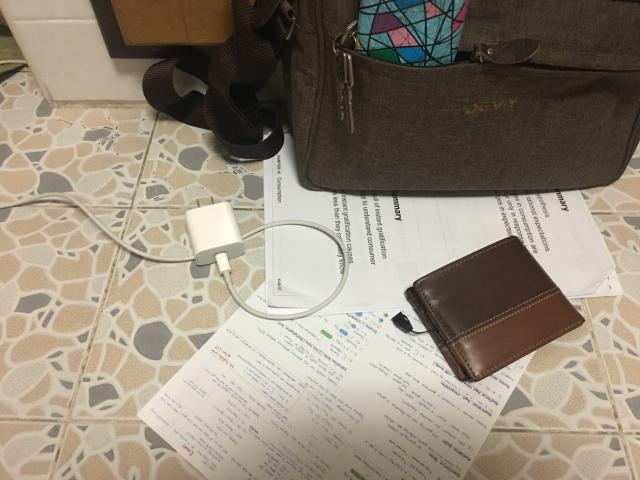Keys: (332, 20, 359, 134)
Wallet: (406, 236, 584, 381)
paper: (139, 177, 565, 479), (262, 129, 621, 316)
wire: (0, 192, 349, 320)
